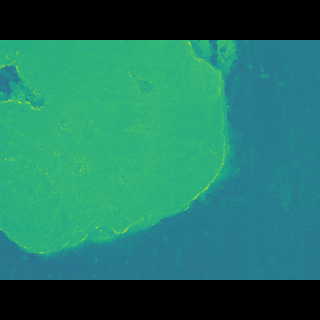Loch: (0, 70, 244, 237)
